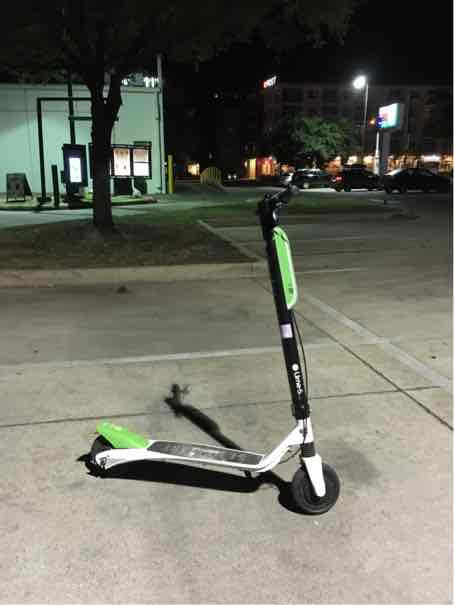scooter: (74, 180, 344, 525)
